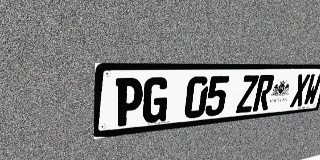0: (183, 76, 210, 119)
5: (204, 76, 230, 117)
G: (141, 77, 170, 124)
P: (114, 78, 144, 127)
R: (252, 75, 275, 112)
W: (302, 74, 320, 106)
X: (290, 74, 310, 107)
Z: (236, 75, 259, 113)
